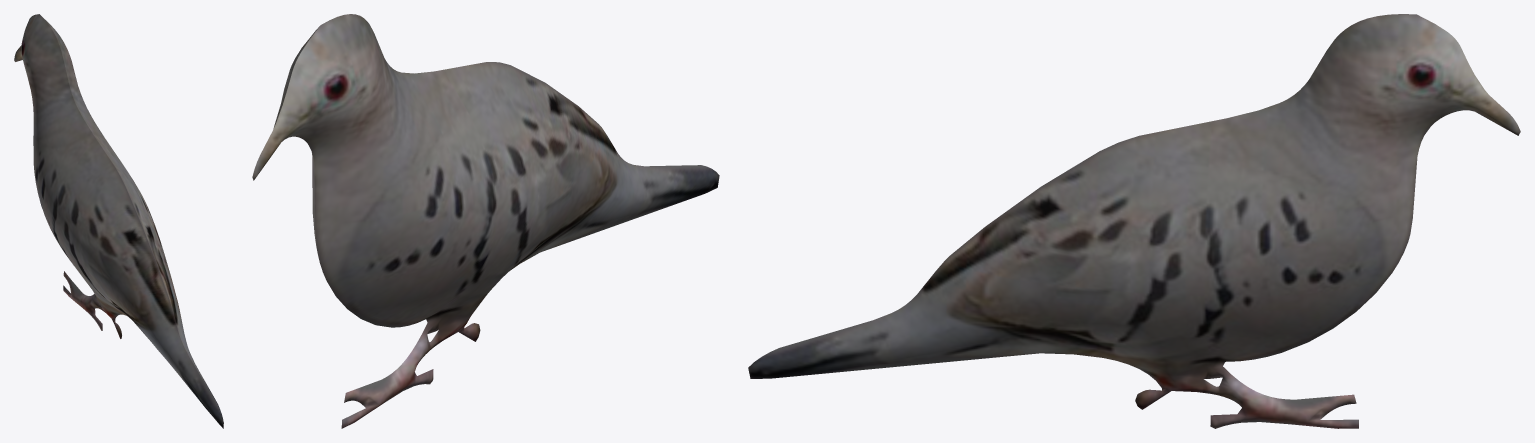
The picture shows the model from 3 angles, left to right: view 1: azimuth 30°, elevation 25°; view 2: azimuth 150°, elevation 25°; view 3: azimuth 270°, elevation 25°; orthographic projection. The views are drawn at different scales.
Parts seen in each view (by area): view 1: node1; view 2: node1; view 3: node1.
Boxes of the visible parts, x1,y1,x2,y2 form: node1: [14, 14, 223, 428]; node1: [252, 14, 719, 428]; node1: [748, 14, 1520, 428].
Size of the model in its own units: 0.2189 by 0.7112 by 1.2.
Materials: 1 (1 with a texture image).
